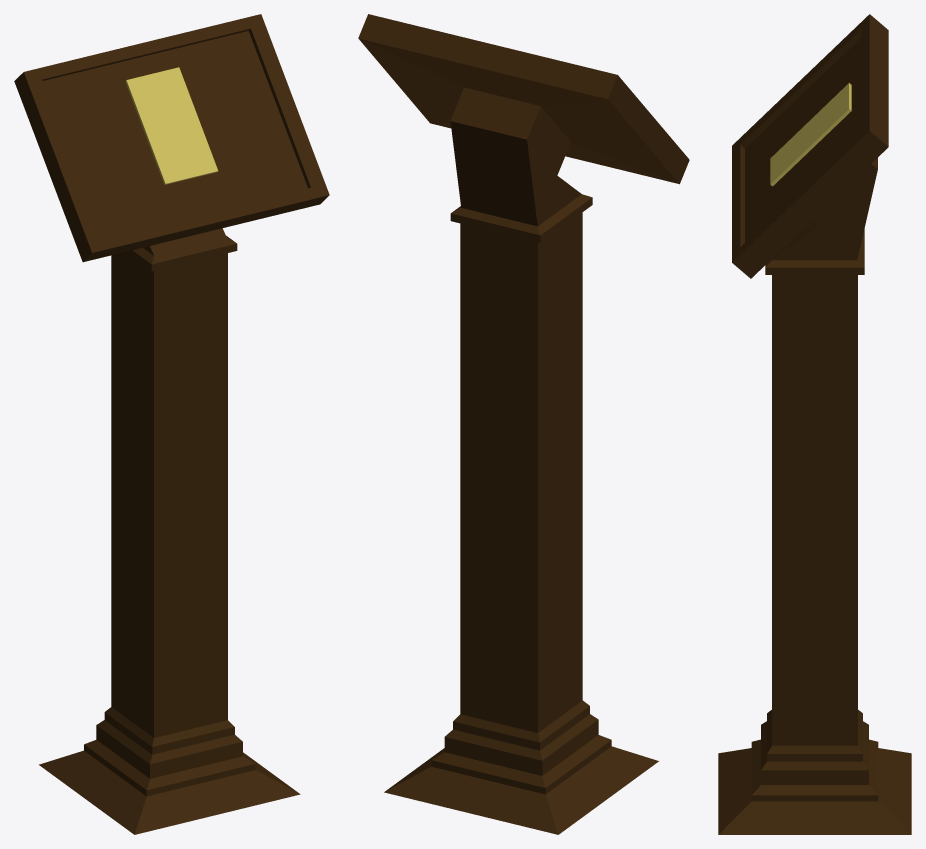
File: Stand_with_paper.fbx
3 renders of one model, left to right at view 1: azimuth 30°, elevation 25°; view 2: azimuth 150°, elevation 25°; view 3: azimuth 270°, elevation 25°, orthographic. The views are drawn at different scales.
Visible parts, largest first — view 1: Cube.001; view 2: Cube.001; view 3: Cube.001.
Part boxes in pixels (bbox=[...]): Cube.001: bbox=[14, 14, 329, 834]; Cube.001: bbox=[358, 14, 689, 834]; Cube.001: bbox=[718, 14, 911, 834].
Bounding box in the file's own units: 440 × 1267 × 308.
